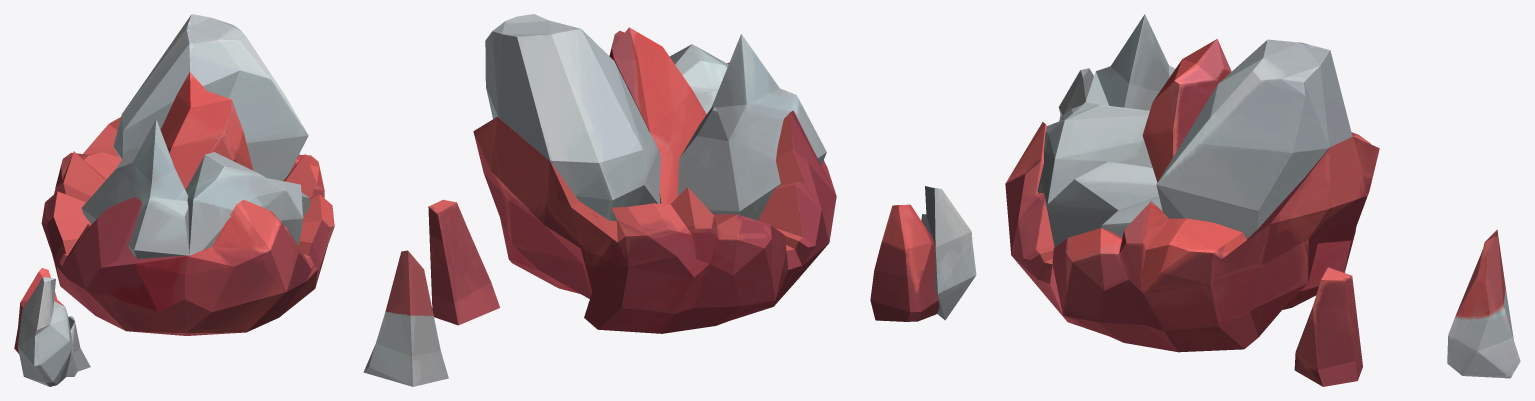
The model's file is SM_Luna_Landing_Rock_2.fbx.
3 renders of one model, left to right at view 1: azimuth 30°, elevation 25°; view 2: azimuth 150°, elevation 25°; view 3: azimuth 270°, elevation 25°, orthographic. The views are drawn at different scales.
Parts seen in each view (by area): view 1: SM_Luna_Landing_Rock_2; view 2: SM_Luna_Landing_Rock_2; view 3: SM_Luna_Landing_Rock_2.
Boxes of the visible parts, bbox=[...] form: SM_Luna_Landing_Rock_2: bbox=[14, 14, 334, 386]; SM_Luna_Landing_Rock_2: bbox=[363, 14, 976, 386]; SM_Luna_Landing_Rock_2: bbox=[1005, 14, 1520, 386].
Size of the model in its own units: 4482 by 2959 by 4680.
